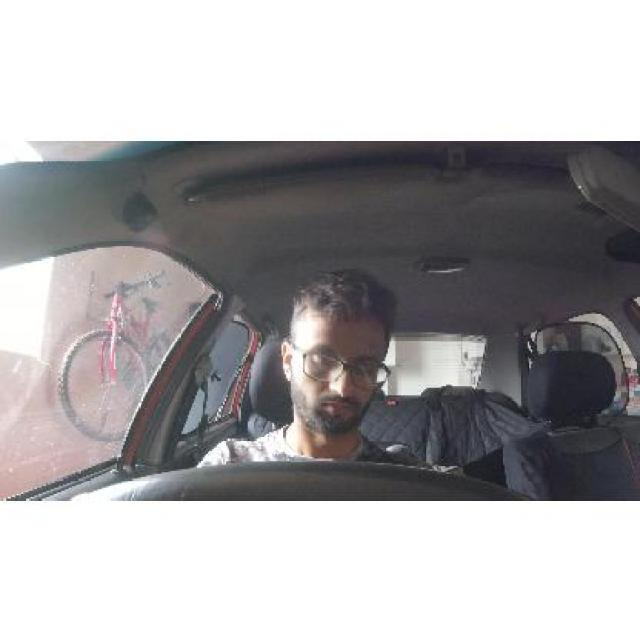drowsy: (279, 275, 399, 430)
